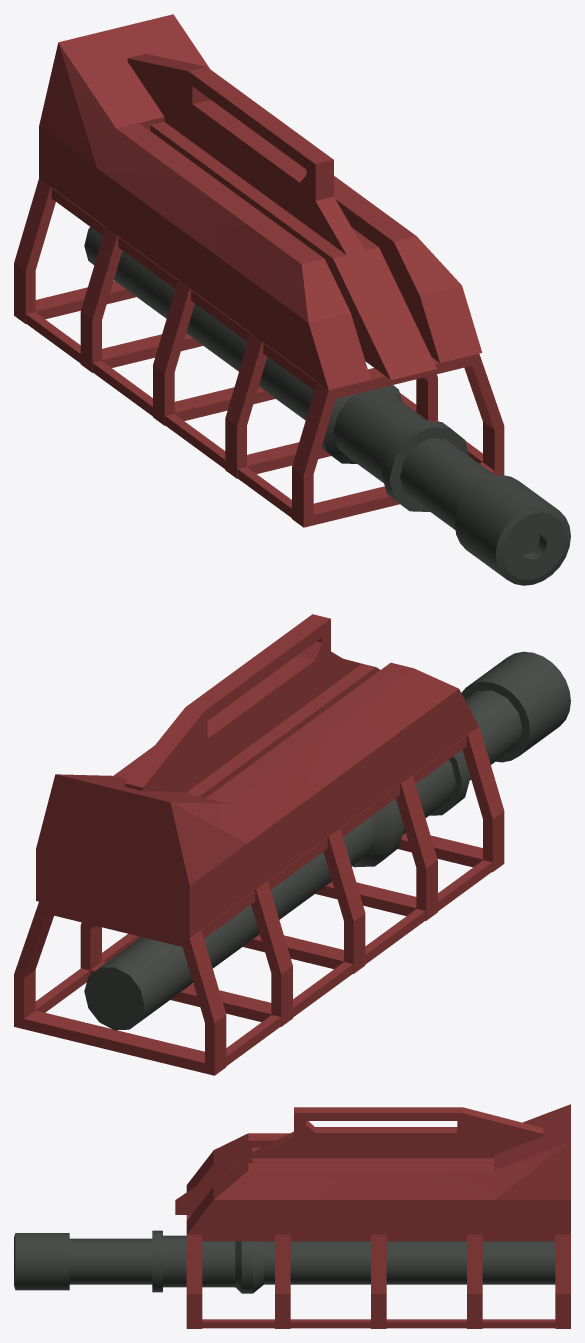
Rendered from LaserTurretInvincible.fbx.
The picture shows the model from 3 angles, top to bottom: view 1: azimuth 30°, elevation 25°; view 2: azimuth 150°, elevation 25°; view 3: azimuth 270°, elevation 25°; orthographic projection. The views are drawn at different scales.
Visible parts, largest first — view 1: mediumBlaster_front_half_sentinel, mediumBlaster_center_half_wireframe, barrel_carmine, silencer_beveled; view 2: mediumBlaster_front_half_sentinel, mediumBlaster_center_half_wireframe, barrel_carmine, silencer_beveled; view 3: mediumBlaster_front_half_sentinel, barrel_carmine, mediumBlaster_center_half_wireframe, silencer_beveled.
Part boxes in pixels (<box>): mediumBlaster_front_half_sentinel: <box>39,14,482,389</box>; mediumBlaster_center_half_wireframe: <box>14,178,504,527</box>; barrel_carmine: <box>84,227,494,529</box>; silencer_beveled: <box>455,475,570,585</box>; mediumBlaster_front_half_sentinel: <box>36,614,478,938</box>; mediumBlaster_center_half_wireframe: <box>14,726,504,1075</box>; barrel_carmine: <box>84,690,522,1030</box>; silencer_beveled: <box>461,651,570,762</box>; mediumBlaster_front_half_sentinel: <box>175,1104,570,1234</box>; barrel_carmine: <box>69,1230,555,1293</box>; mediumBlaster_center_half_wireframe: <box>186,1215,570,1328</box>; silencer_beveled: <box>14,1233,69,1290</box>.
Bounding box in the file's own units: 4 × 5.36 × 14.5.
